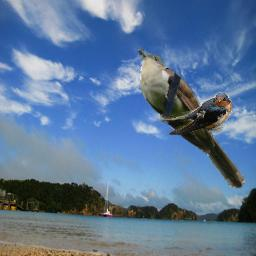Cuckoo: (138, 49, 245, 189)
Swallow: (155, 92, 232, 135)
